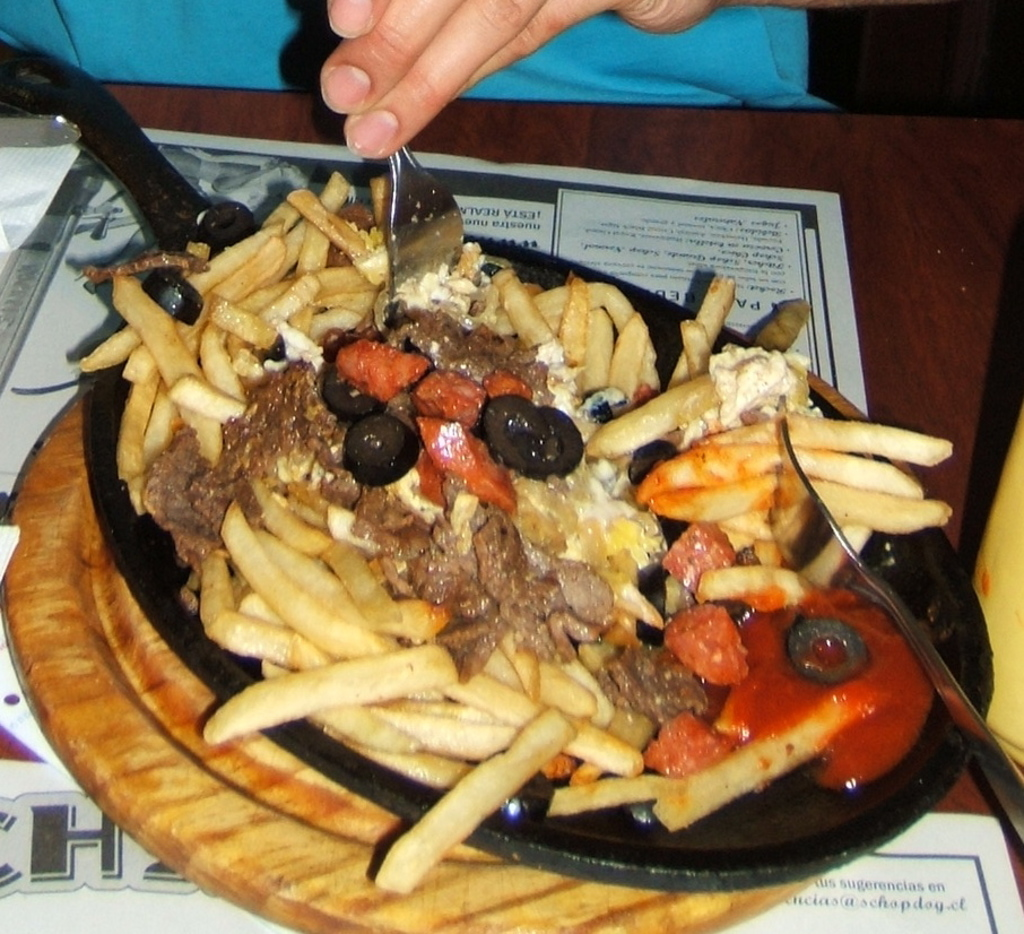French fries: (70, 160, 977, 905)
